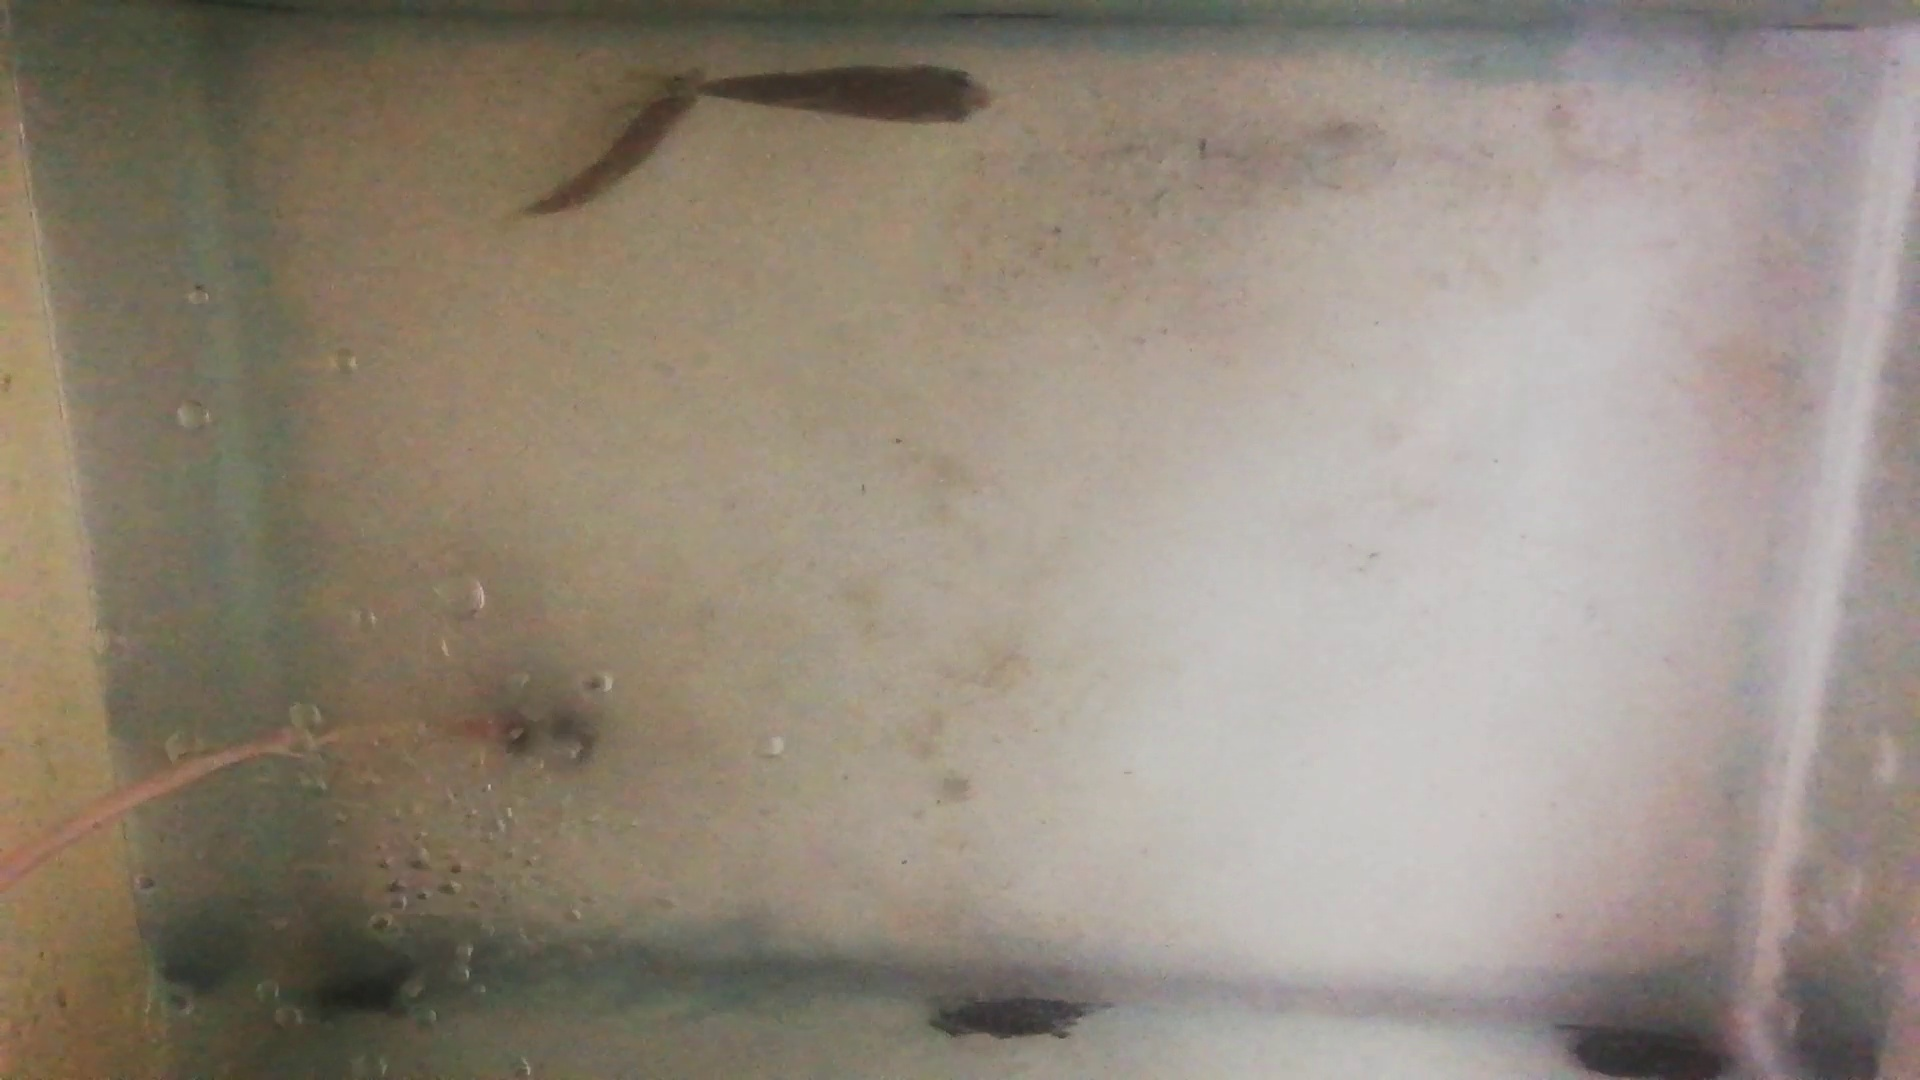fish: (521, 66, 705, 218), (708, 61, 996, 127)
